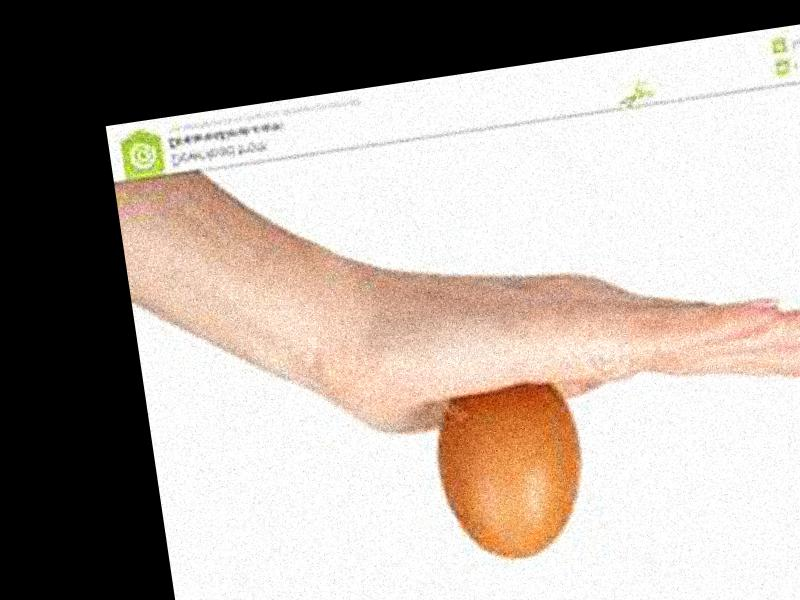Eggs: (431, 373, 595, 566)
